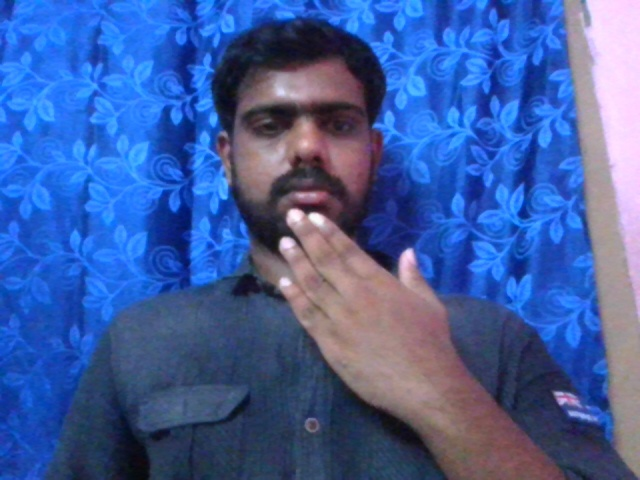Thanks: (278, 206, 442, 379)
